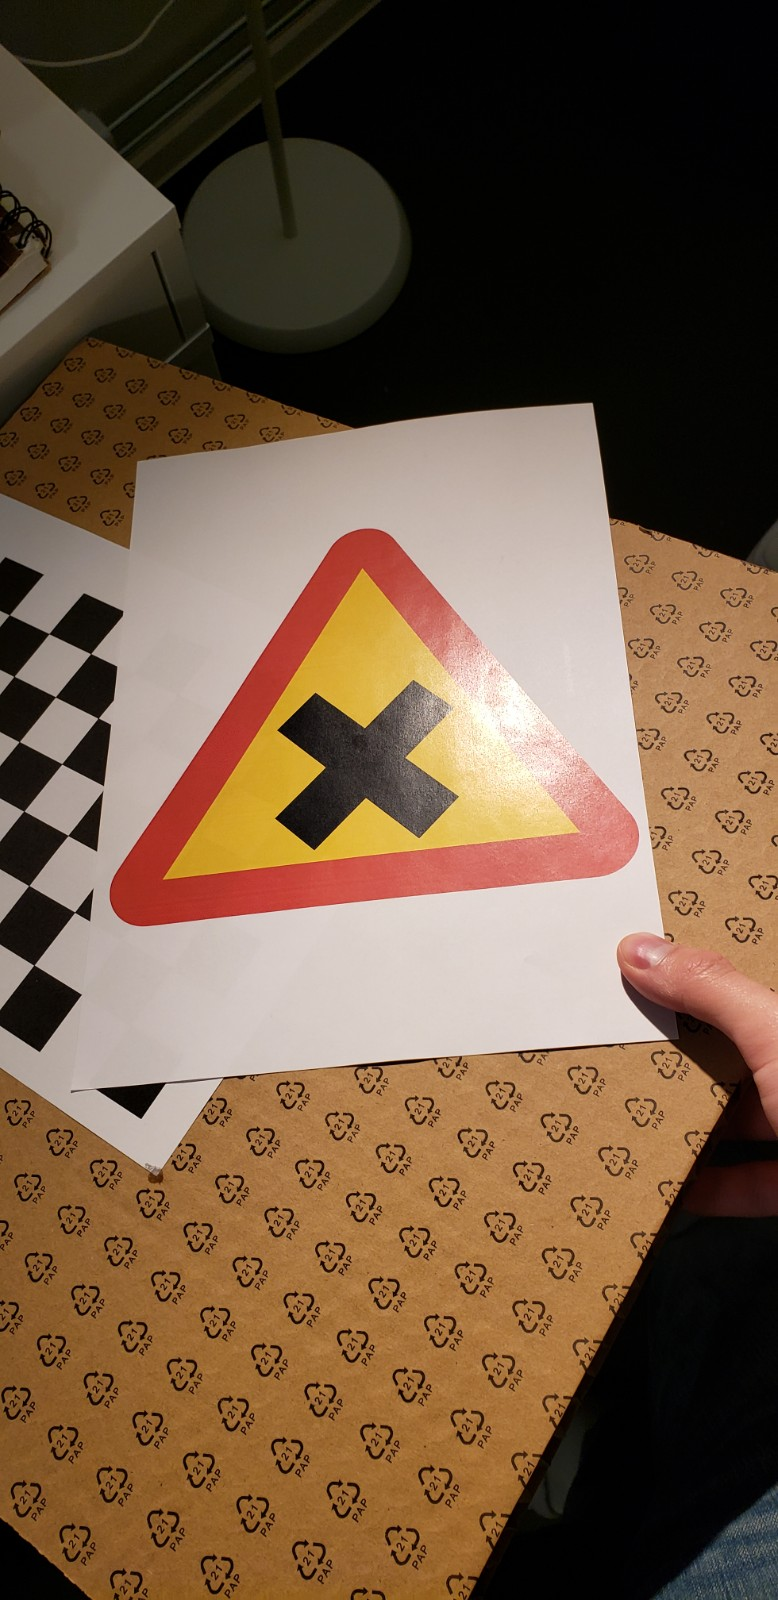junction: (111, 520, 635, 904)
